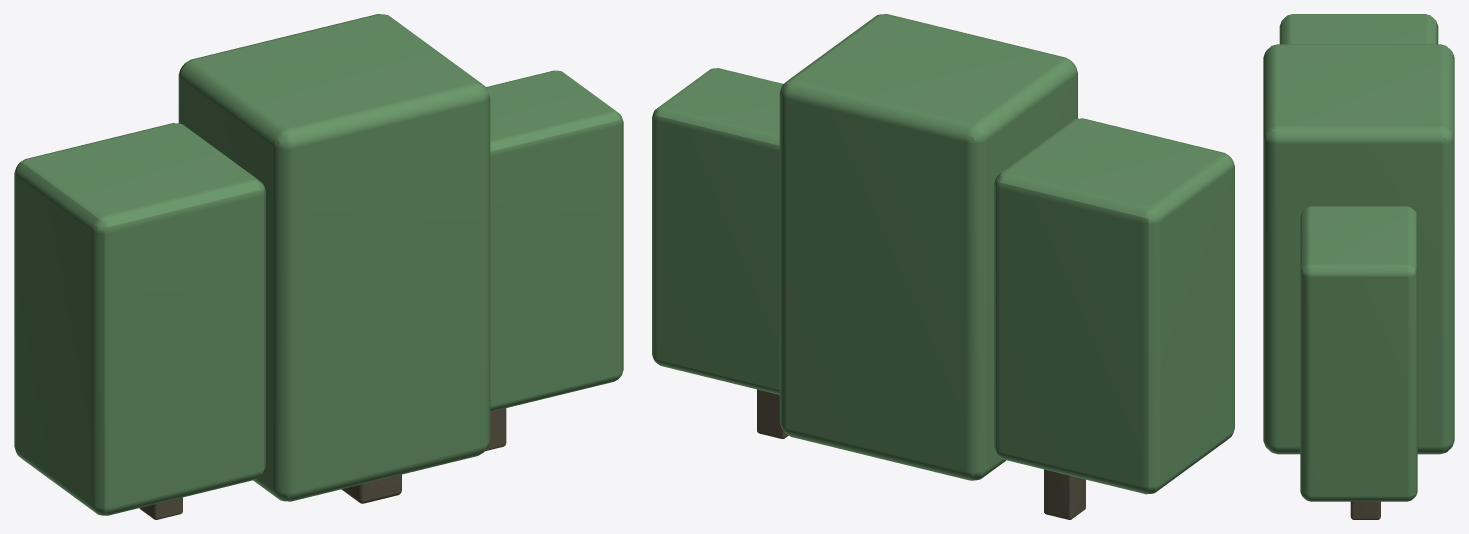
Rendered from Tree_010.fbx.
The picture shows the model from 3 angles, left to right: view 1: azimuth 30°, elevation 25°; view 2: azimuth 150°, elevation 25°; view 3: azimuth 270°, elevation 25°; orthographic projection. The views are drawn at different scales.
Visible parts, largest first — view 1: tree_010; view 2: tree_010; view 3: tree_010.
Part boxes in pixels (x1,y1,x2,y2): tree_010: (14,14,623,519); tree_010: (652,14,1234,519); tree_010: (1263,14,1454,519).
Bounding box in the file's own units: 3.07 × 2.25 × 1.07.
